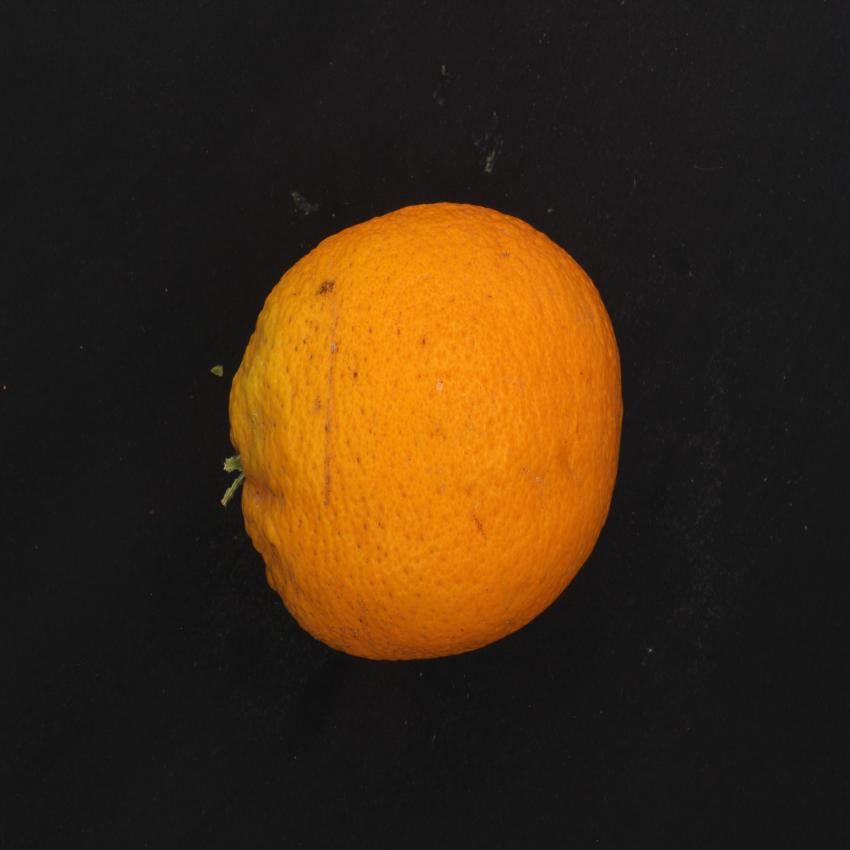Buen estado: (217, 191, 634, 676)
